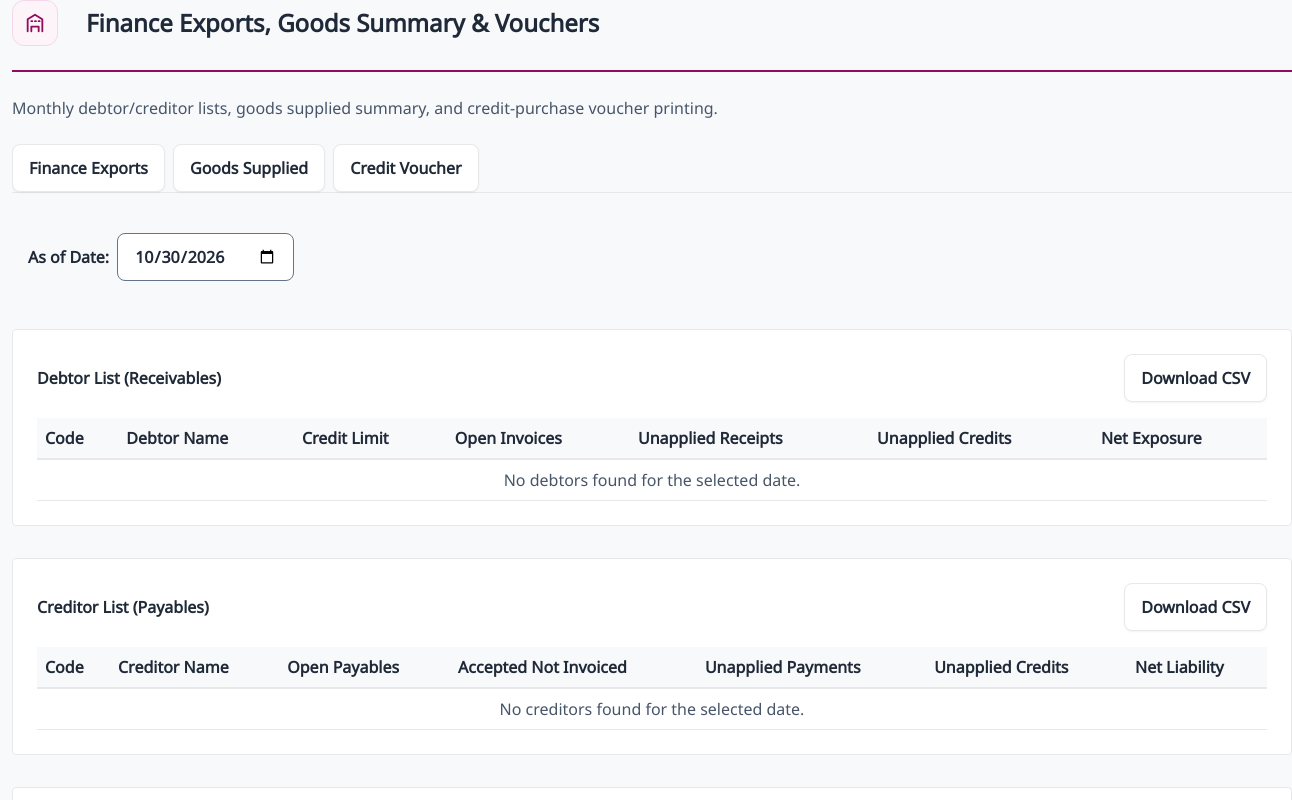
Test: FinancePage › switches to Goods Supplied tab and shows aggregated facts and lines
Click the tab "Goods Supplied" at (249, 168), box [173,144,325,192]
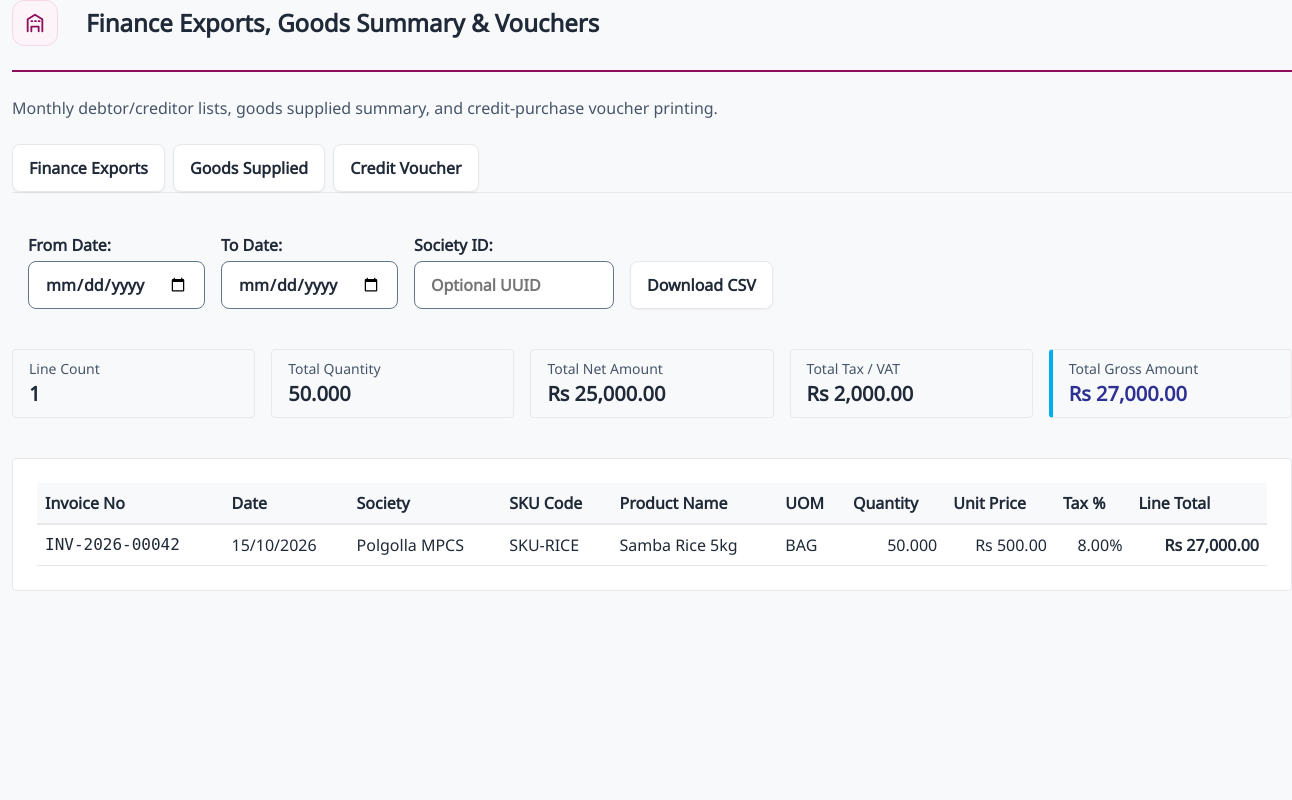
Check: the text "INV-2026-00042" is shown, box [37,524,224,566]
Check: the text "Samba Rice 5kg" is shown, box [612,524,777,566]
Check: the text "SKU-RICE" is shown, box [501,524,612,566]
